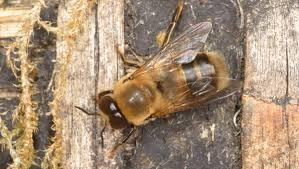worker-bee: (77, 0, 238, 149)
